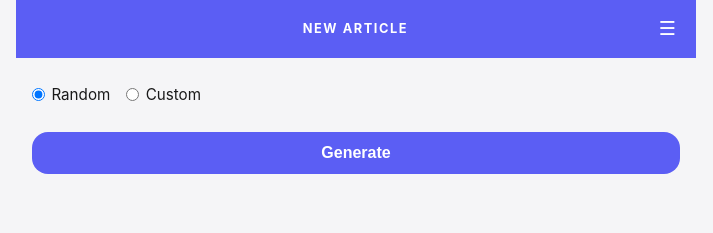
it: NewArticlePage status messages › shows success status message after generation and stays on page
The image size is (713, 233).
Click the button "Generate" at (356, 153), box [32,132,680,174]
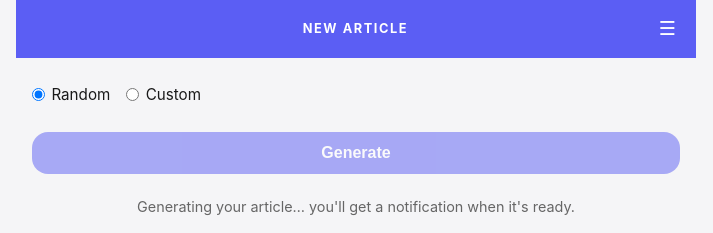
Expected: the heading "New Article" is shown, [303,21,408,36]
Expected: the text "Generating your article" is shown, [137,198,575,215]
